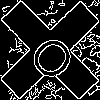O: (25, 25, 86, 85)
